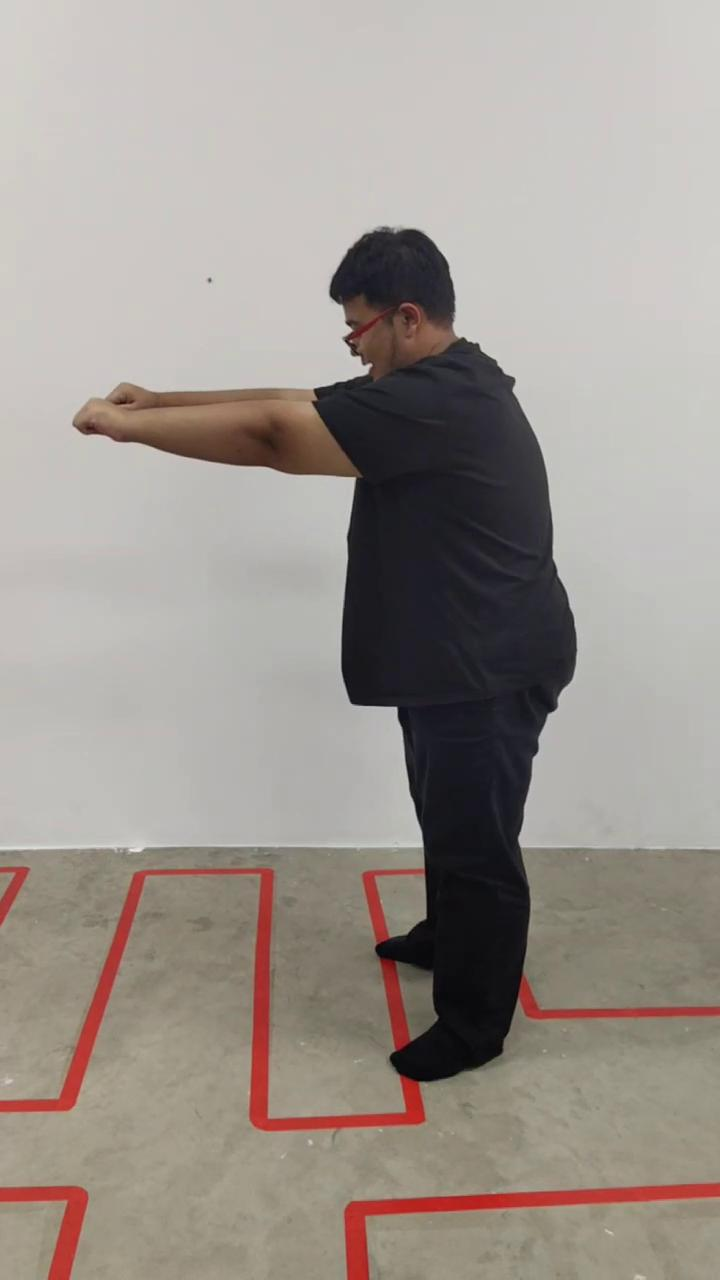squat up: (74, 227, 577, 1082)
